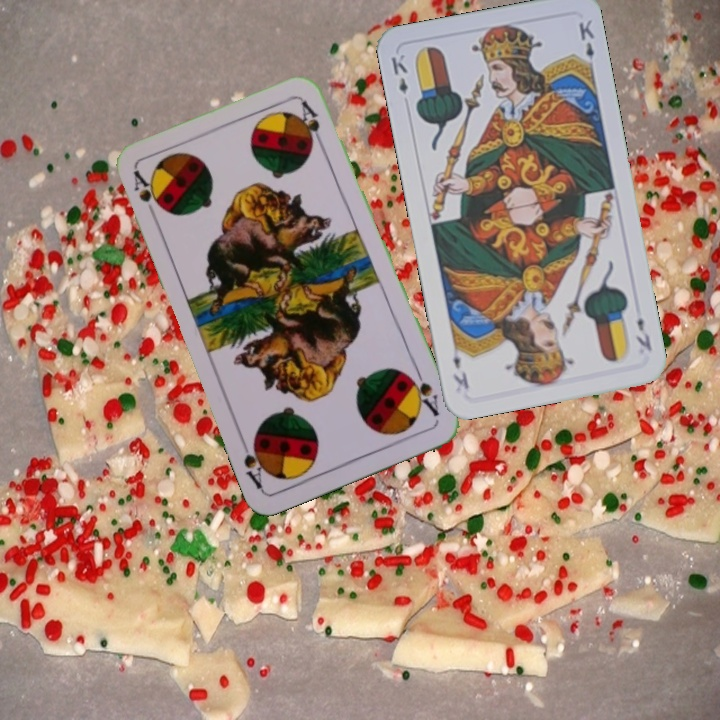EK: (387, 50, 411, 97), (632, 313, 655, 354)
SA: (129, 165, 166, 222), (403, 365, 442, 419)
